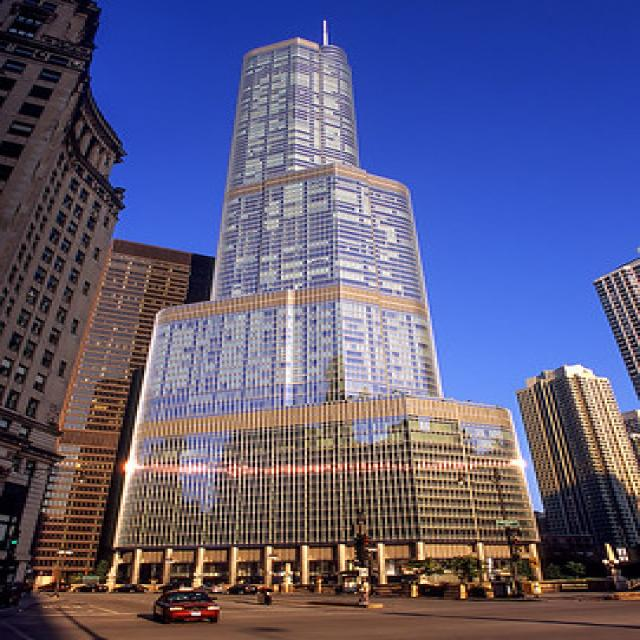Normal_building: (112, 33, 549, 604), (509, 358, 639, 612)
